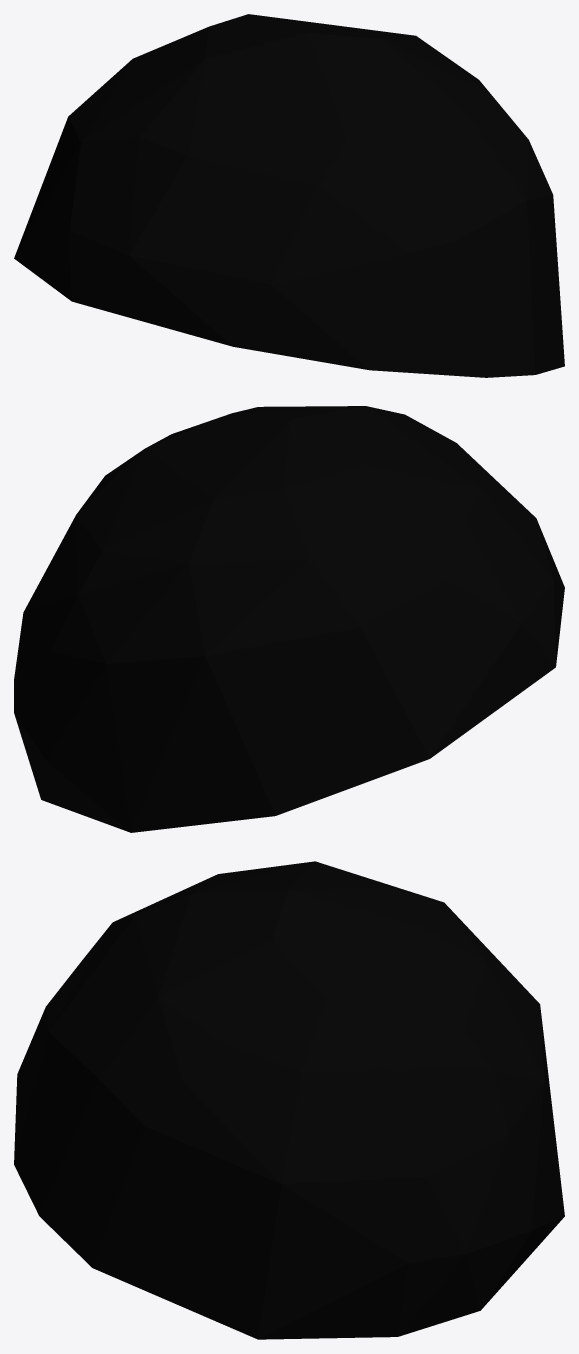
The model's file is 西瓜皮.fbx.
3 views of the same model, one above another, from view 1: azimuth 30°, elevation 25°; view 2: azimuth 150°, elevation 25°; view 3: azimuth 270°, elevation 25° (orthographic).
Parts seen in each view (by area): view 1: 西瓜皮; view 2: 西瓜皮; view 3: 西瓜皮.
Boxes of the visible parts, x1,y1,x2,y2 form: 西瓜皮: (14, 14, 564, 377); 西瓜皮: (14, 406, 564, 832); 西瓜皮: (14, 861, 564, 1339).
Size of the model in its own units: 0.5628 by 0.3953 by 0.5643.
